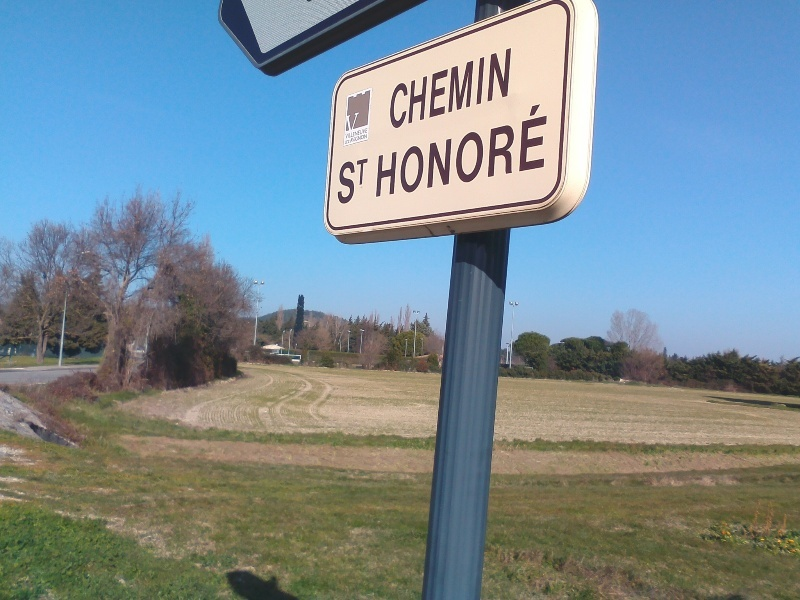text: (385, 102, 400, 201), (401, 102, 416, 201), (417, 102, 432, 201), (433, 102, 448, 201), (449, 102, 464, 201), (465, 102, 480, 201), (481, 102, 496, 201), (497, 102, 512, 201), (513, 102, 528, 201), (529, 102, 544, 201), (497, 47, 513, 131), (401, 47, 416, 131), (417, 47, 432, 131), (433, 47, 448, 131), (449, 47, 464, 131), (465, 47, 480, 131), (481, 47, 496, 131), (375, 102, 384, 201), (353, 158, 369, 206), (392, 47, 400, 131), (340, 158, 352, 206), (545, 102, 549, 201), (353, 127, 368, 139), (353, 134, 369, 145), (353, 112, 360, 133), (346, 112, 352, 133), (344, 134, 352, 145), (345, 127, 352, 139)
